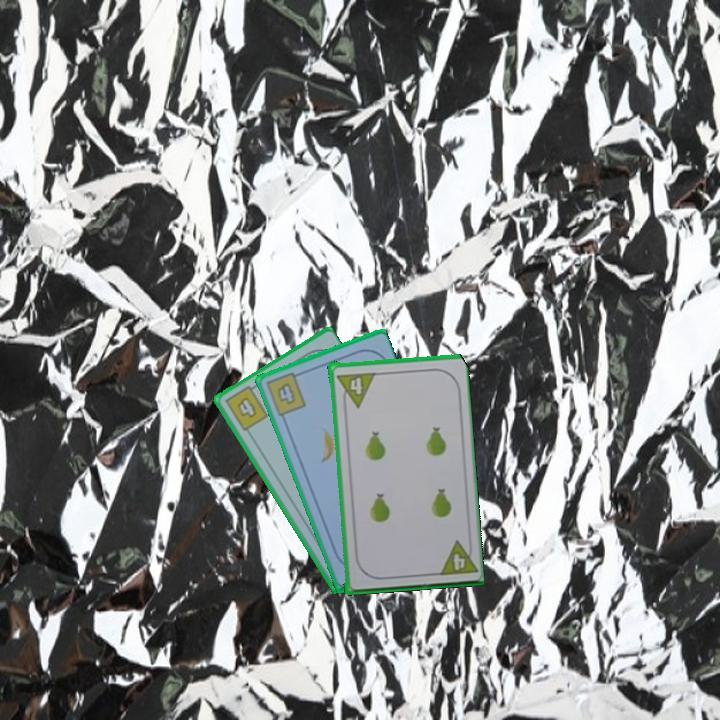4b: (221, 380, 271, 434), (262, 368, 309, 419)
4p: (333, 368, 377, 410), (434, 536, 478, 578)
